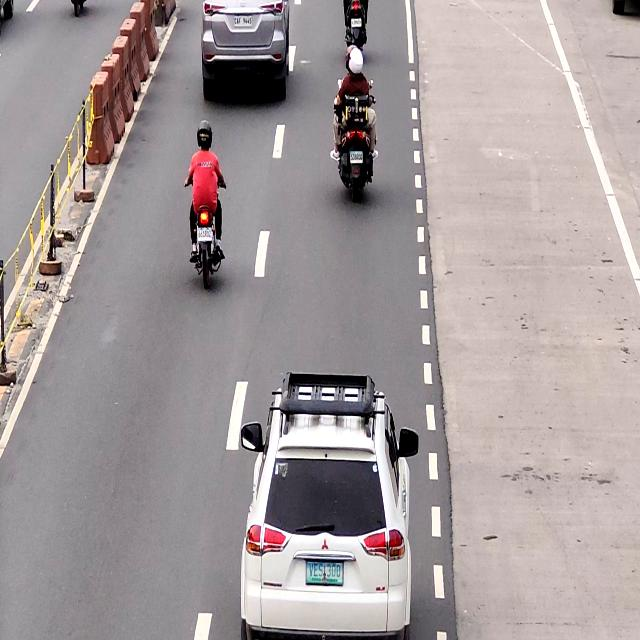Car: (247, 376, 412, 640), (199, 0, 293, 107)
License-Plate: (304, 555, 344, 590), (233, 14, 252, 29), (196, 224, 211, 243), (348, 148, 364, 164)
Motorcycle: (333, 54, 376, 202), (188, 123, 222, 290), (346, 0, 370, 51)
